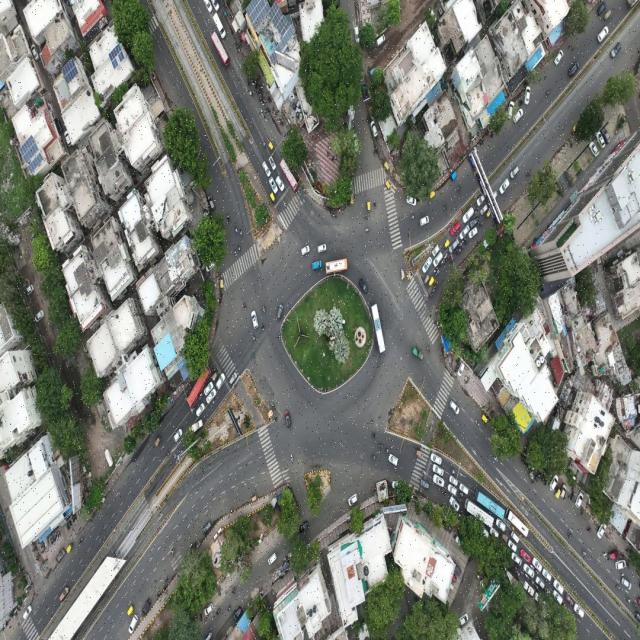3W: (249, 488, 259, 508), (154, 430, 163, 452), (570, 120, 583, 135), (65, 540, 75, 559), (603, 6, 613, 23), (499, 530, 510, 545), (568, 488, 577, 506), (127, 603, 137, 619), (414, 447, 426, 460), (553, 484, 562, 501), (427, 188, 437, 203), (423, 272, 432, 288), (383, 178, 393, 192), (442, 237, 452, 251), (480, 412, 490, 426), (267, 138, 276, 153), (383, 158, 392, 173), (410, 344, 420, 357), (451, 167, 458, 184), (218, 275, 225, 291), (269, 191, 276, 207), (428, 274, 435, 289), (418, 353, 426, 363), (366, 200, 371, 215), (485, 209, 491, 220), (212, 373, 218, 381)
Bus: (184, 363, 214, 410), (474, 483, 509, 521), (369, 298, 389, 361), (462, 497, 496, 532), (208, 29, 233, 70), (278, 158, 302, 197), (506, 509, 531, 539), (324, 254, 353, 277)
Cars: (20, 601, 36, 624), (354, 273, 370, 296), (140, 596, 154, 619), (596, 23, 610, 46), (344, 489, 361, 507), (607, 42, 623, 61), (566, 60, 581, 80), (126, 613, 139, 635), (551, 47, 565, 67), (283, 406, 294, 430), (597, 521, 609, 543), (509, 162, 522, 182), (549, 471, 560, 494), (309, 253, 323, 271), (461, 206, 475, 224), (619, 575, 633, 593), (594, 127, 605, 149), (59, 583, 71, 603), (249, 308, 259, 332), (259, 158, 271, 178), (388, 452, 402, 469), (207, 191, 217, 214), (575, 486, 585, 509), (274, 174, 286, 193), (421, 256, 433, 275), (588, 139, 600, 158), (405, 191, 419, 207), (446, 399, 462, 413), (201, 599, 215, 615), (573, 603, 586, 620), (215, 371, 226, 391), (369, 120, 380, 140), (203, 380, 215, 398), (449, 221, 461, 239), (432, 251, 444, 269), (429, 451, 443, 466), (432, 474, 446, 489), (298, 242, 311, 258), (374, 33, 387, 49), (494, 517, 507, 533), (265, 550, 278, 566), (275, 300, 284, 323), (523, 84, 532, 107), (200, 519, 212, 536), (596, 0, 608, 17), (531, 554, 543, 571), (268, 177, 278, 197), (267, 154, 278, 172), (559, 483, 568, 505), (447, 240, 460, 255), (512, 108, 524, 124), (552, 578, 564, 594), (552, 590, 564, 606), (520, 548, 532, 564), (524, 563, 536, 579), (298, 518, 310, 534), (173, 427, 183, 446), (614, 558, 628, 571), (56, 545, 66, 563), (352, 133, 361, 153), (602, 126, 612, 144), (507, 539, 519, 554), (233, 605, 243, 623), (498, 178, 509, 194), (507, 100, 515, 122), (449, 497, 460, 513), (457, 360, 466, 379), (207, 389, 217, 406), (607, 548, 620, 561), (432, 463, 445, 476), (354, 24, 361, 48), (419, 215, 431, 229), (448, 474, 460, 488), (195, 403, 206, 418), (202, 0, 213, 15), (228, 371, 238, 387), (316, 241, 328, 254), (564, 593, 576, 606), (511, 552, 523, 565), (361, 80, 368, 102), (467, 226, 478, 240), (534, 575, 545, 589), (447, 483, 458, 497), (419, 478, 431, 490), (474, 192, 485, 205), (212, 0, 222, 14), (479, 202, 489, 216), (467, 217, 480, 227), (510, 530, 520, 543), (489, 527, 499, 539), (542, 568, 551, 581), (460, 484, 469, 497), (432, 242, 440, 256), (462, 225, 470, 235)
LCV: (212, 10, 228, 40), (522, 578, 535, 602)
M2W: (167, 547, 178, 560), (224, 600, 234, 613), (454, 181, 463, 194), (369, 428, 378, 441), (375, 439, 385, 450), (230, 584, 239, 596), (581, 548, 589, 561), (369, 451, 377, 464), (215, 605, 223, 618), (261, 302, 268, 316), (525, 168, 533, 180), (231, 245, 238, 258), (473, 415, 480, 428), (491, 454, 500, 464), (449, 465, 456, 477), (368, 416, 375, 428), (385, 444, 391, 458), (233, 46, 242, 55), (246, 90, 255, 99), (361, 210, 369, 220), (270, 399, 276, 412), (259, 321, 265, 334), (242, 300, 248, 313), (225, 211, 231, 224), (270, 105, 276, 118), (78, 535, 85, 546), (474, 204, 481, 215), (624, 594, 631, 605), (273, 413, 279, 425), (234, 224, 240, 236), (363, 226, 372, 234), (163, 532, 171, 541), (165, 449, 172, 459), (425, 345, 432, 355), (586, 525, 593, 535), (162, 577, 172, 584), (478, 137, 484, 148), (289, 452, 294, 465), (277, 121, 286, 128), (409, 212, 416, 221), (442, 203, 449, 212), (545, 87, 552, 96), (614, 584, 623, 591), (458, 489, 465, 498), (440, 486, 447, 495), (36, 553, 42, 563), (238, 228, 244, 238), (273, 110, 278, 122), (277, 116, 283, 126), (282, 200, 288, 210), (372, 148, 377, 160), (567, 530, 573, 540), (478, 222, 486, 229), (198, 391, 203, 402), (211, 366, 217, 375), (251, 353, 257, 362), (260, 82, 266, 91), (439, 260, 445, 269), (456, 495, 462, 504), (373, 197, 377, 210), (49, 537, 54, 547), (237, 244, 242, 254), (262, 140, 267, 150), (250, 80, 257, 87), (261, 100, 268, 107), (54, 533, 58, 545), (632, 602, 638, 610), (530, 563, 536, 571), (266, 96, 271, 105), (433, 265, 438, 274), (602, 551, 607, 560), (422, 467, 427, 476), (255, 88, 262, 94), (331, 214, 338, 220), (624, 548, 630, 555), (534, 569, 540, 576), (253, 335, 257, 345), (489, 132, 494, 140), (534, 584, 539, 592), (530, 578, 535, 586), (525, 573, 530, 581), (520, 569, 525, 577), (253, 84, 259, 90), (259, 97, 265, 103), (520, 455, 524, 464), (619, 553, 625, 559), (191, 407, 196, 414), (457, 249, 462, 256), (443, 252, 448, 259), (443, 259, 448, 266), (58, 530, 61, 541), (523, 456, 526, 467), (531, 464, 534, 475), (539, 470, 542, 481), (461, 237, 466, 243), (435, 270, 440, 276), (545, 478, 548, 488), (516, 570, 520, 577), (517, 102, 523, 106), (457, 243, 463, 247), (460, 245, 466, 249), (453, 249, 459, 253), (448, 253, 452, 259), (435, 280, 438, 288), (465, 240, 469, 245), (451, 258, 455, 263), (512, 565, 517, 569), (430, 293, 433, 299), (433, 287, 436, 293), (543, 473, 544, 483)
